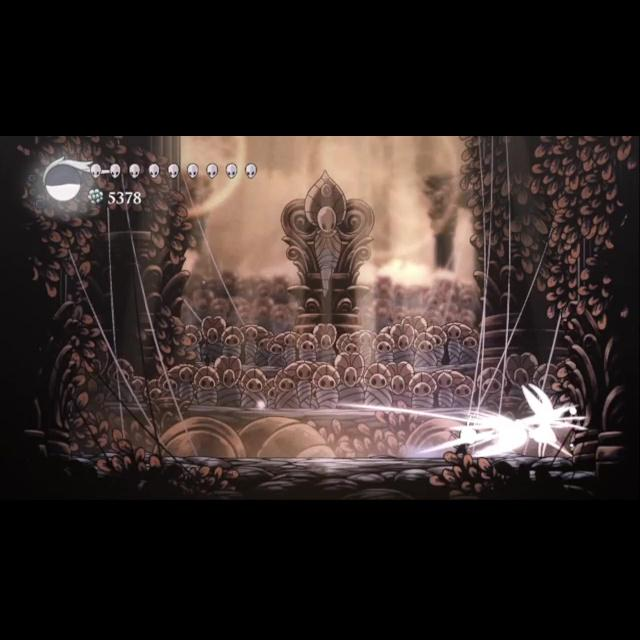EnemyDamaged: (518, 380, 572, 458)
Player: (450, 419, 482, 457)
